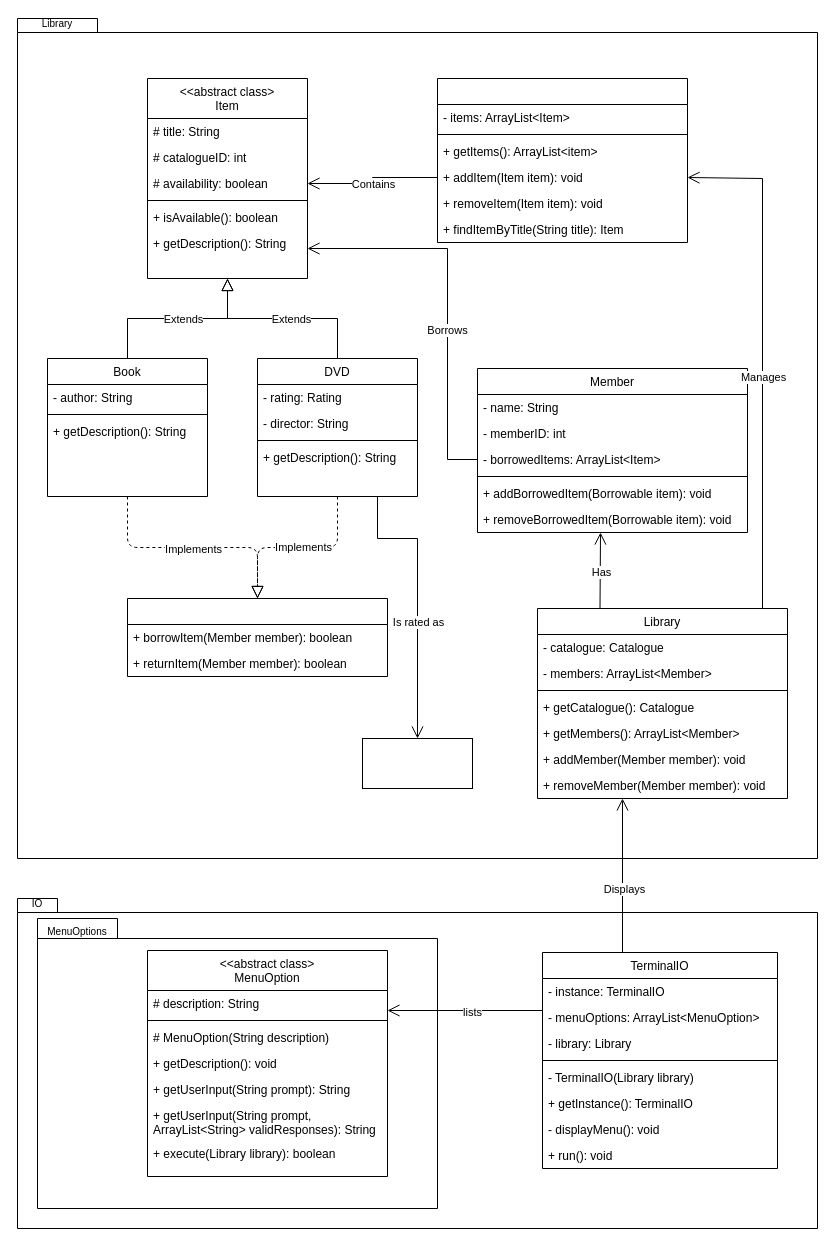
This 835x1246 diagram has some shape labels left out. The shapes that lost their labels are listed below. From the top down, each one's box as (x1, y1, x2, y2) in pixels, then its label:
(436, 78, 688, 242): Catalogue
(126, 598, 388, 676): <<interface>> Borrowable
(362, 738, 472, 788): «enum» Rating
